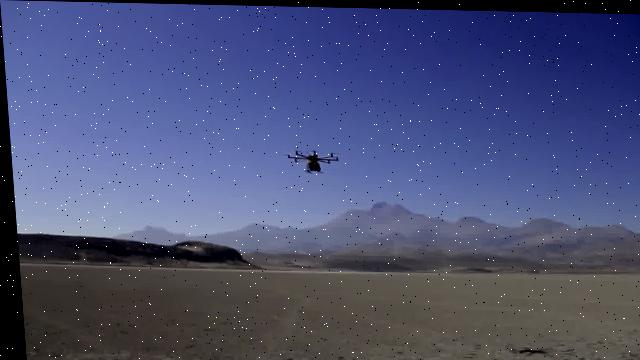drone: (18, 308, 640, 360)
